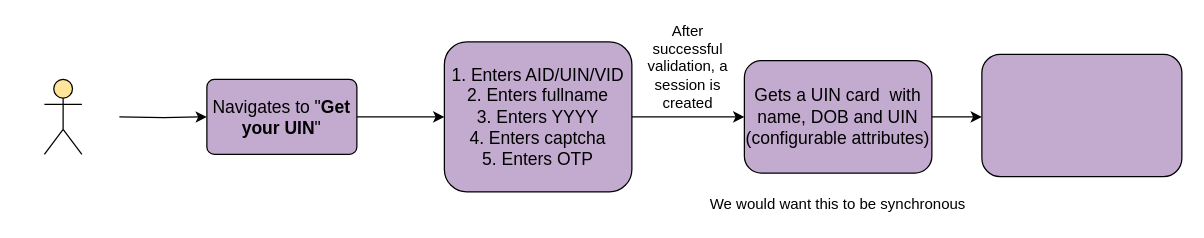
This 1204x238 diagram has some shape labels left out. The centre of each missing label's shape, as x and y in pixels:
"Gets a notification of the transaction over registered email Id & phone number" belongs at pixel 1081 115.
"The resident" belongs at pixel 62 116.
